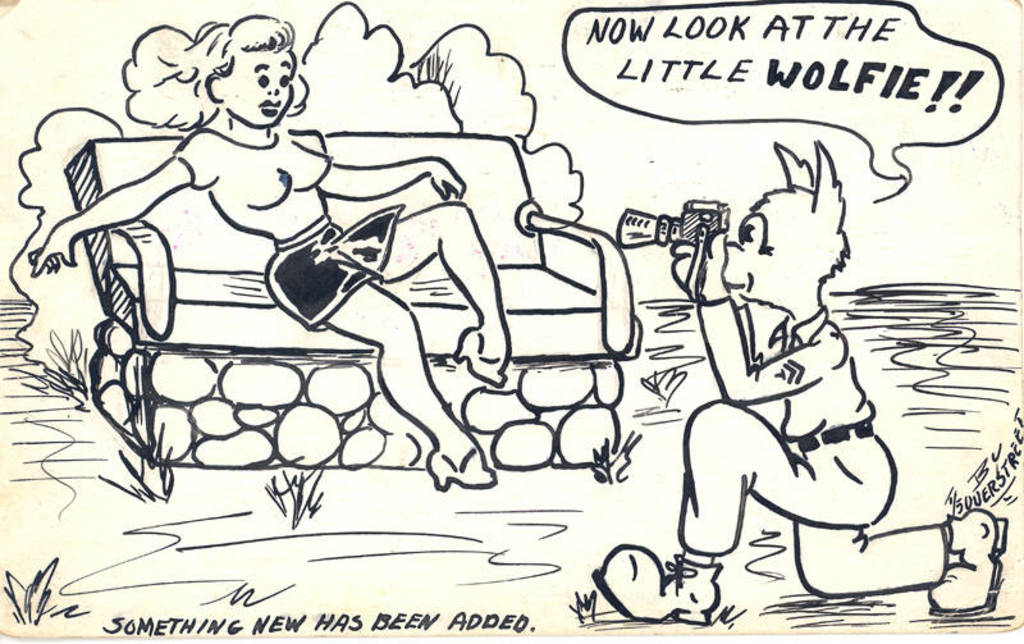Person: (28, 14, 512, 493), (591, 142, 1014, 625)
